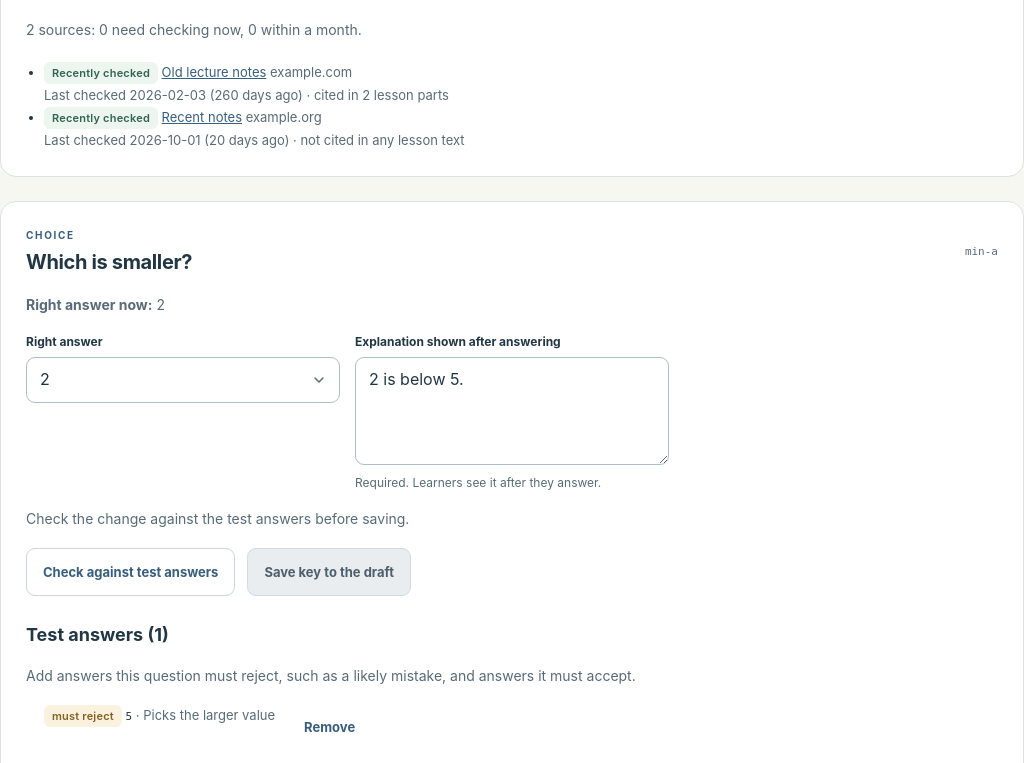
answer keys and test answers (Q09) › checks a key change against the test answers before it can be saved, and asks before saving a failing one
(page scrolled)
Expected: the text "Right answer now:" is shown, x1=26 y1=296 x2=152 y2=313
Expected: the text "Which is smaller?" is shown, x1=26 y1=250 x2=192 y2=274
Select "5" in the dropdown labelled "Right answer" at (183, 380), box x1=26 y1=357 x2=340 y2=403
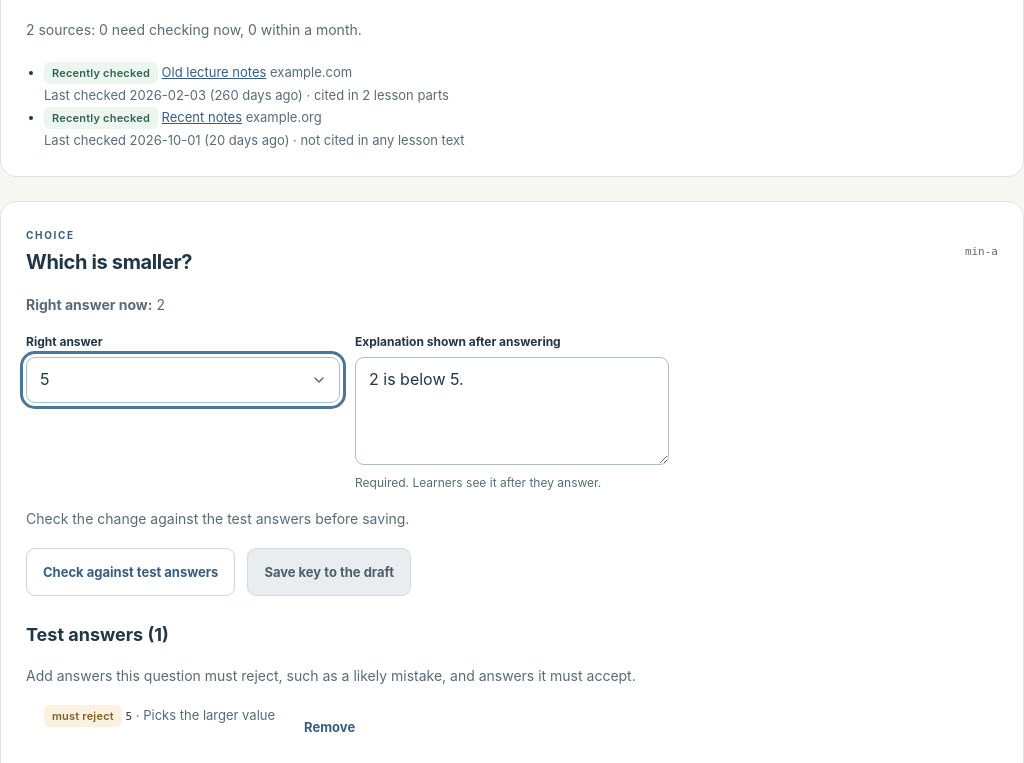
Click the button "Check against test answers" at (131, 572), box x1=26 y1=548 x2=235 y2=596
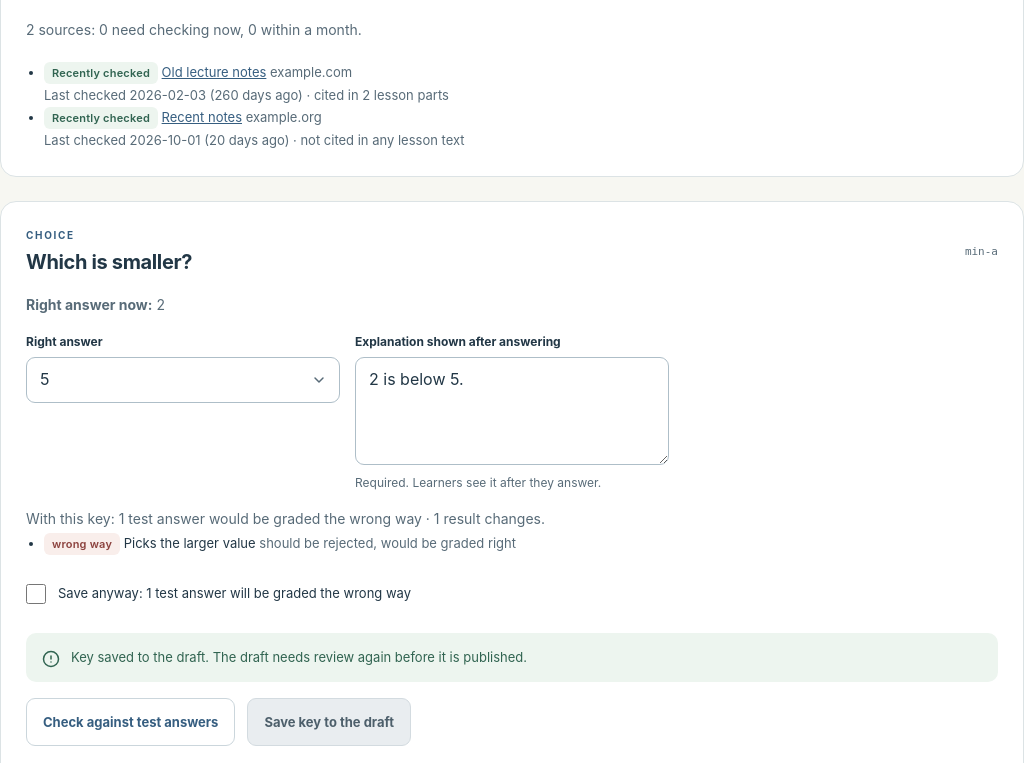
Expected: the button "Save key to the draft" is disabled, x1=247 y1=698 x2=411 y2=746
Expected: the text "1 test answer would be graded the wrong way" is shown, x1=26 y1=510 x2=545 y2=527
Click the checkbox labelled "Save anyway: 1 test answer will be graded the wrong way" at (36, 594), box x1=26 y1=584 x2=46 y2=604
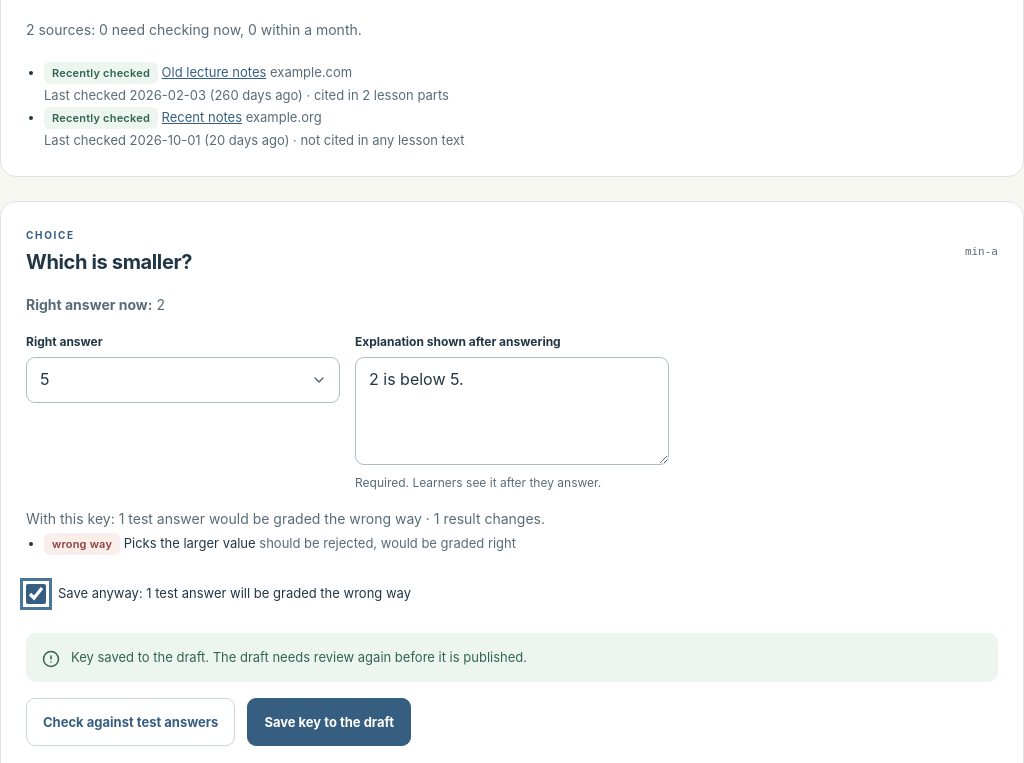
Click the button "Save key to the draft" at (329, 722), box x1=247 y1=698 x2=411 y2=746
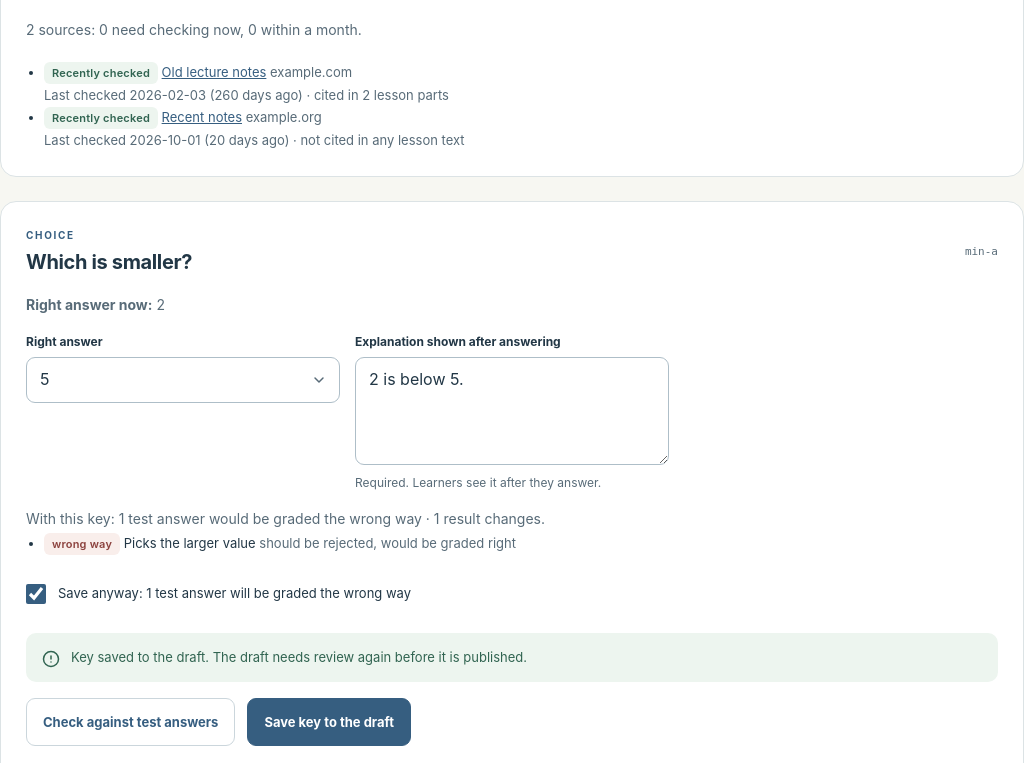
// Changing the key again needs a new check.
Select "2" in the dropdown labelled "Right answer" at (183, 380), box x1=26 y1=357 x2=340 y2=403
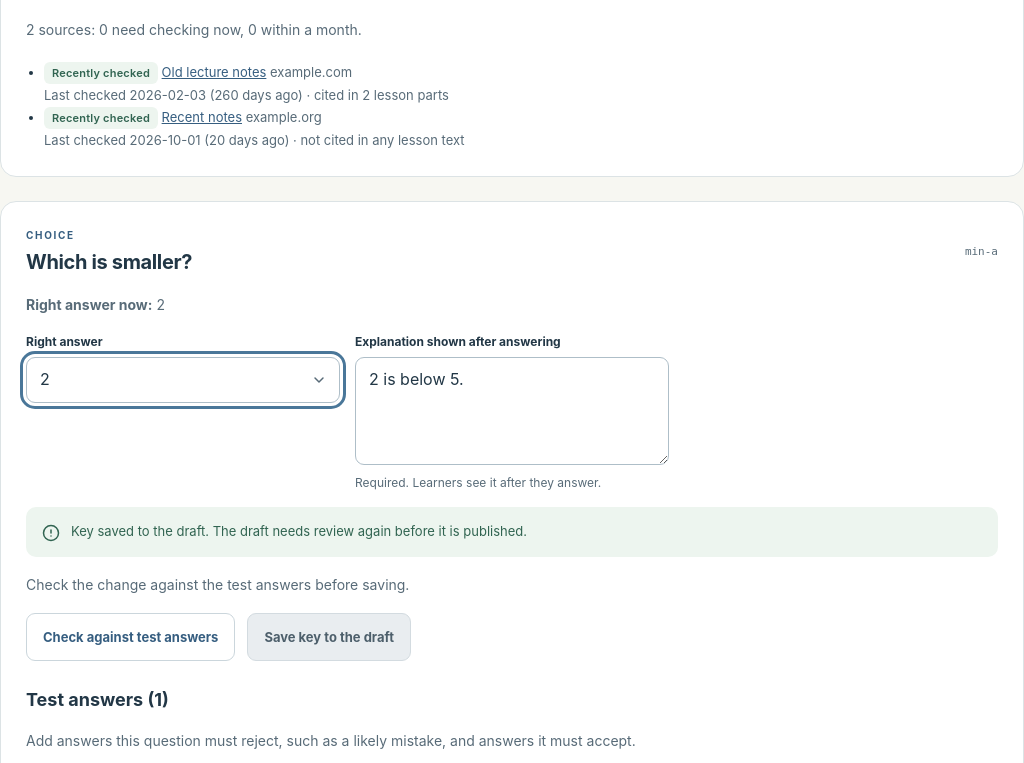
Expected: the button "Save key to the draft" is disabled, x1=247 y1=613 x2=411 y2=661
